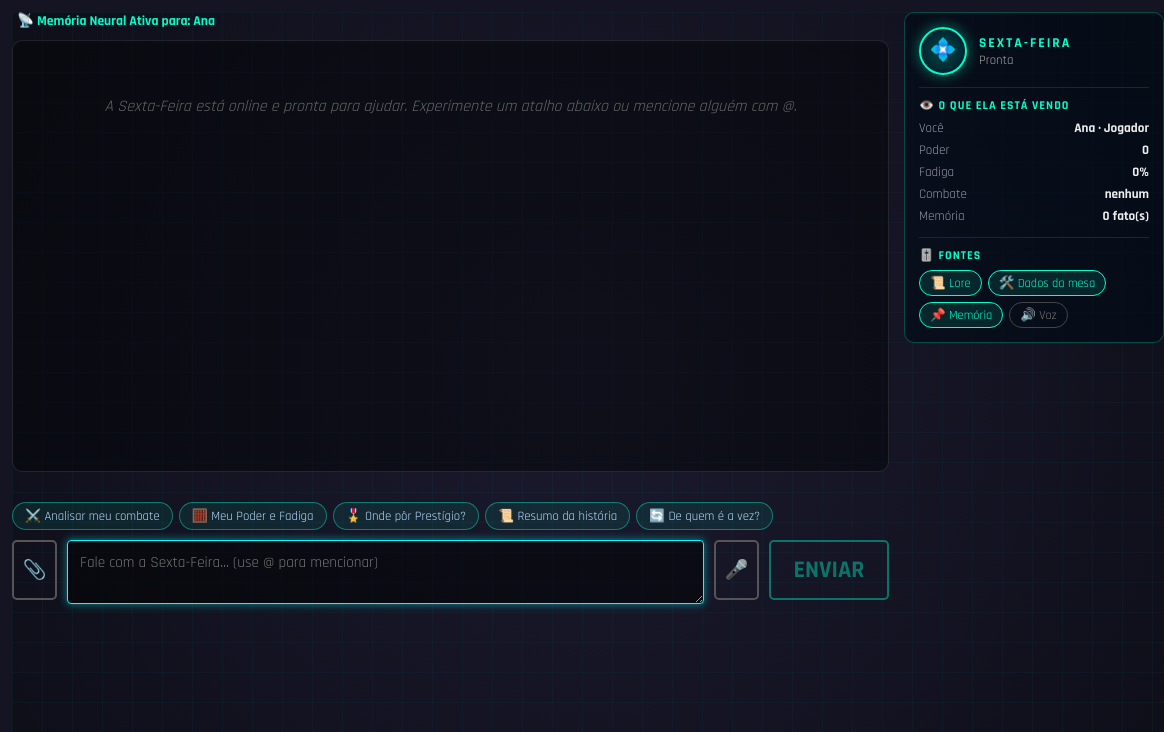
Scenario: BotaoMicrofone - quando so preenche o campo › resposta carregando: texto fica no campo e nao envia segunda pergunta
The image size is (1164, 732).
Type "primeira" into the text box named "Mensagem para a Sexta-Feira".
click(386, 572); type("primeira")  # box [67, 540, 704, 604]
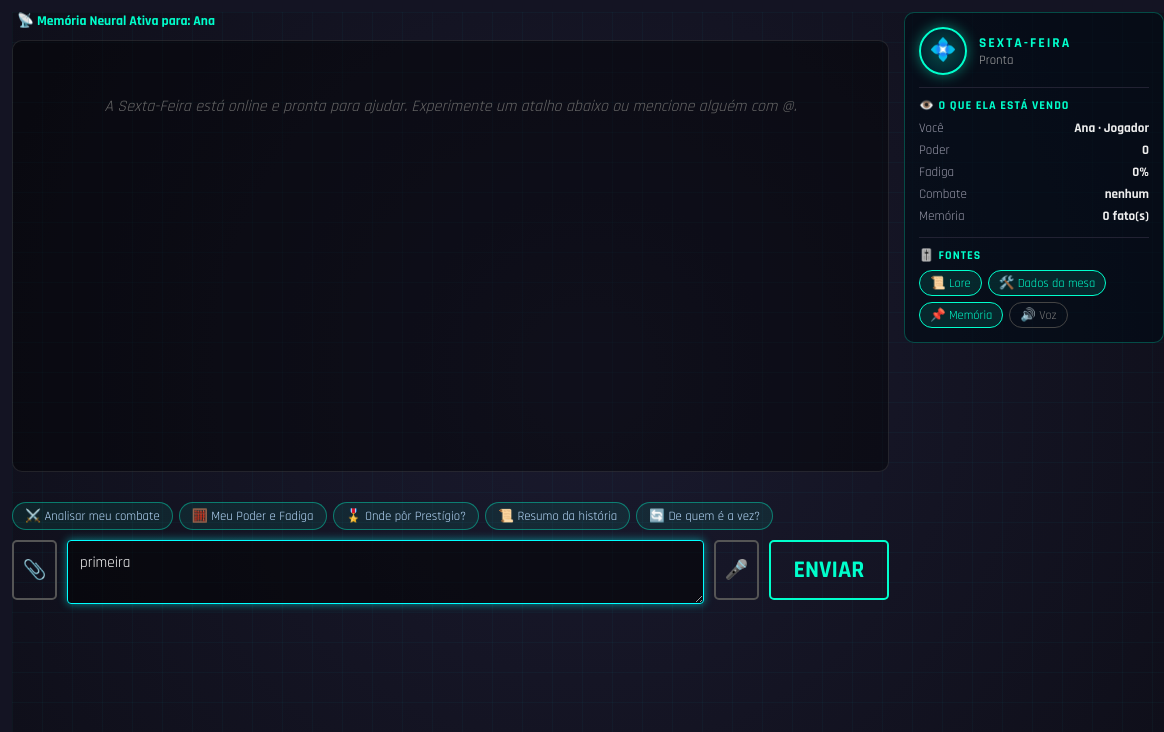
Click the button "🎤".
click(736, 570)  # box [714, 540, 759, 600]
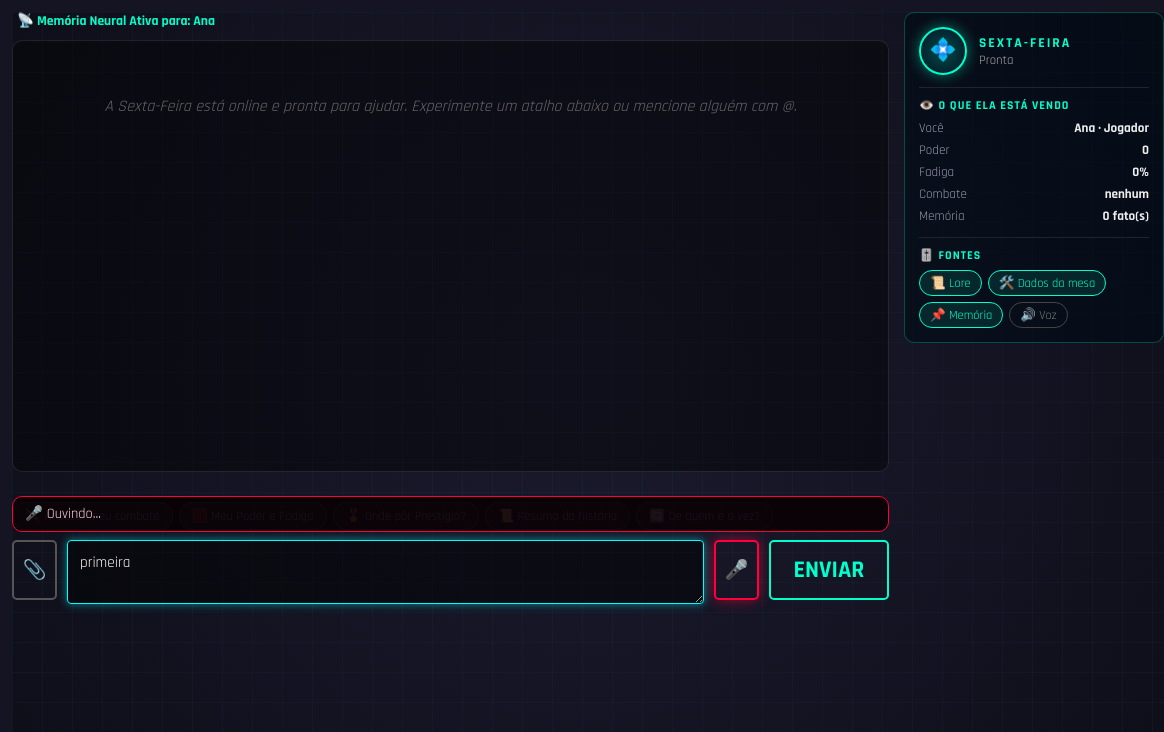
Click the button "ENVIAR".
click(829, 570)  # box [769, 540, 889, 600]
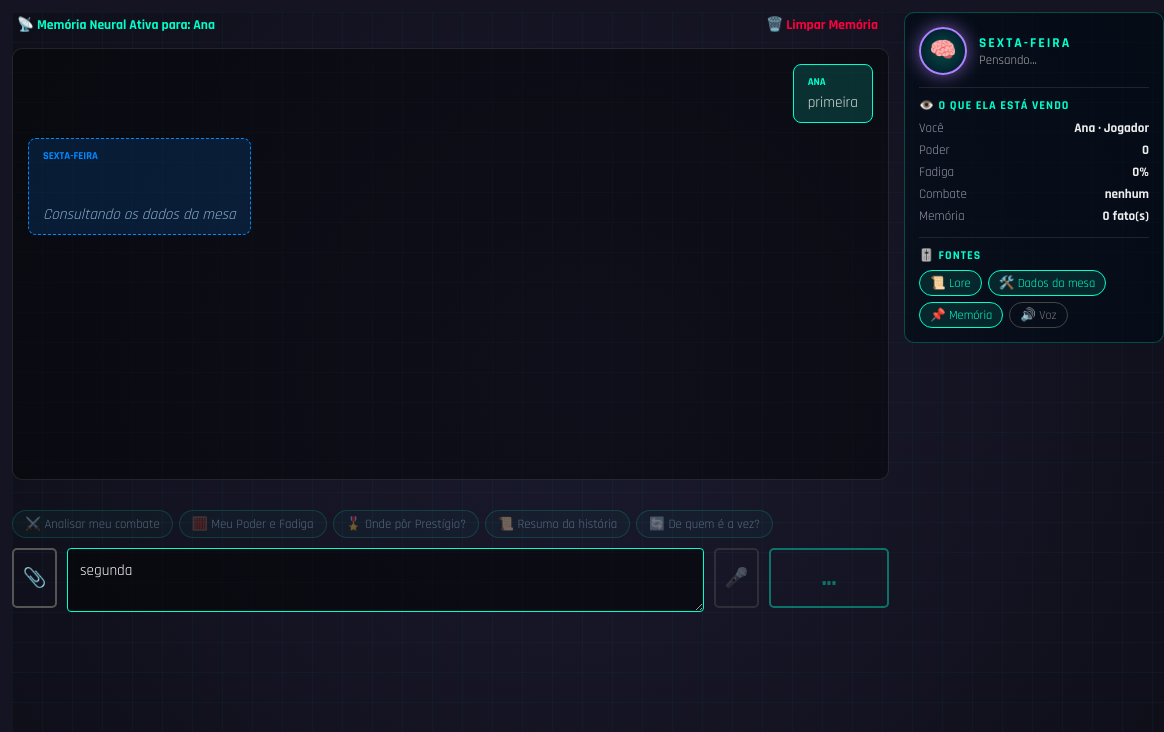
expect the text box named "Mensagem para a Sexta-Feira" holds "segunda": met, box [67, 548, 704, 612]
